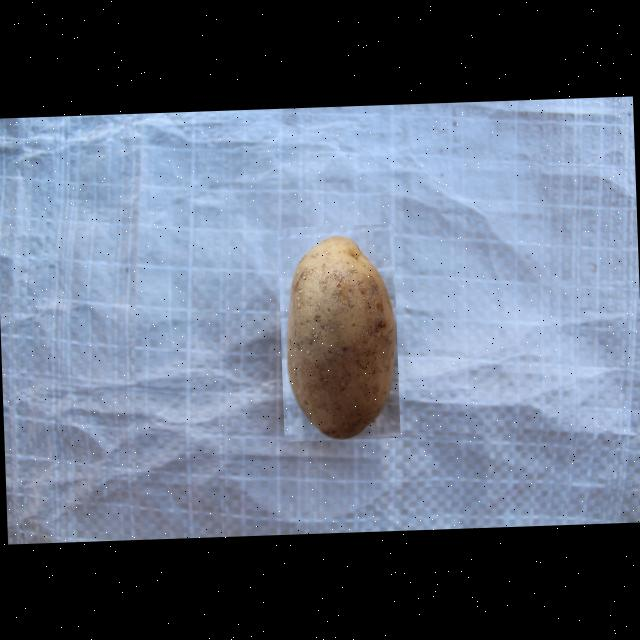Diseased-fungal potato: (277, 224, 400, 442)
